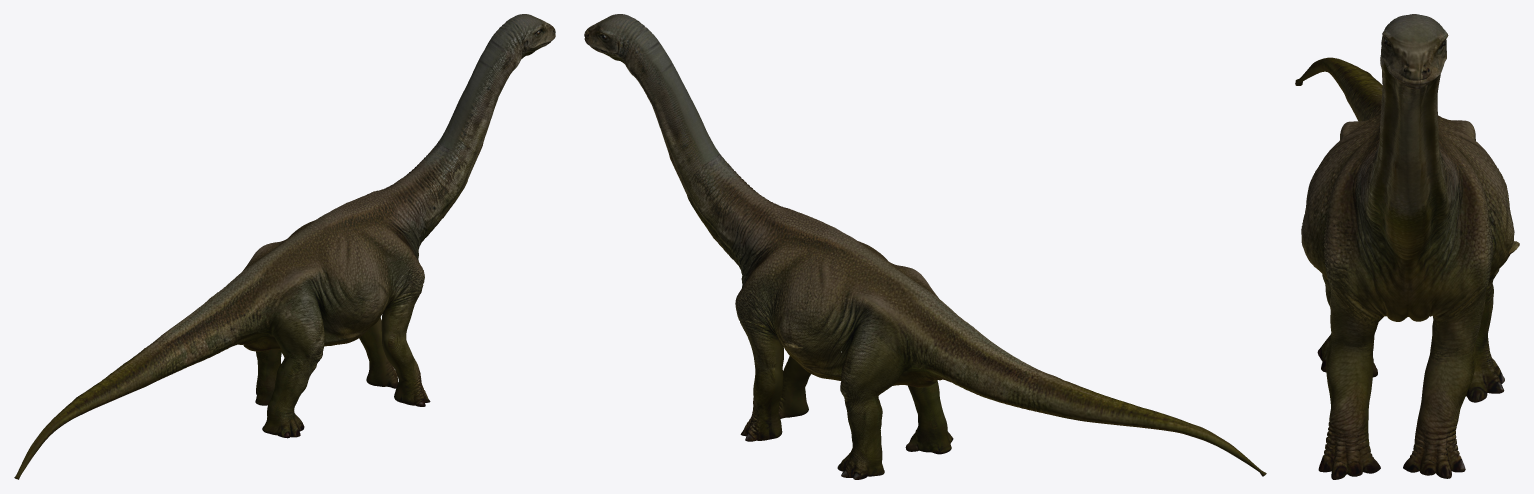
Rendered from argentinosaurus.glb.
3 views of the same model, side by side, from view 1: azimuth 30°, elevation 25°; view 2: azimuth 150°, elevation 25°; view 3: azimuth 270°, elevation 25° (orthographic). The views are drawn at different scales.
Parts seen in each view (by area): view 1: tripo_node_c039505f-bb71-4ed5-8edb-011916dd0577; view 2: tripo_node_c039505f-bb71-4ed5-8edb-011916dd0577; view 3: tripo_node_c039505f-bb71-4ed5-8edb-011916dd0577.
Part boxes in pixels (x1,y1,x2,y2): tripo_node_c039505f-bb71-4ed5-8edb-011916dd0577: [14, 14, 555, 479]; tripo_node_c039505f-bb71-4ed5-8edb-011916dd0577: [584, 14, 1266, 479]; tripo_node_c039505f-bb71-4ed5-8edb-011916dd0577: [1295, 14, 1519, 479].
Bounding box in the file's own units: 0.98 × 0.5515 × 0.2017.
1 material, 1 textured.
